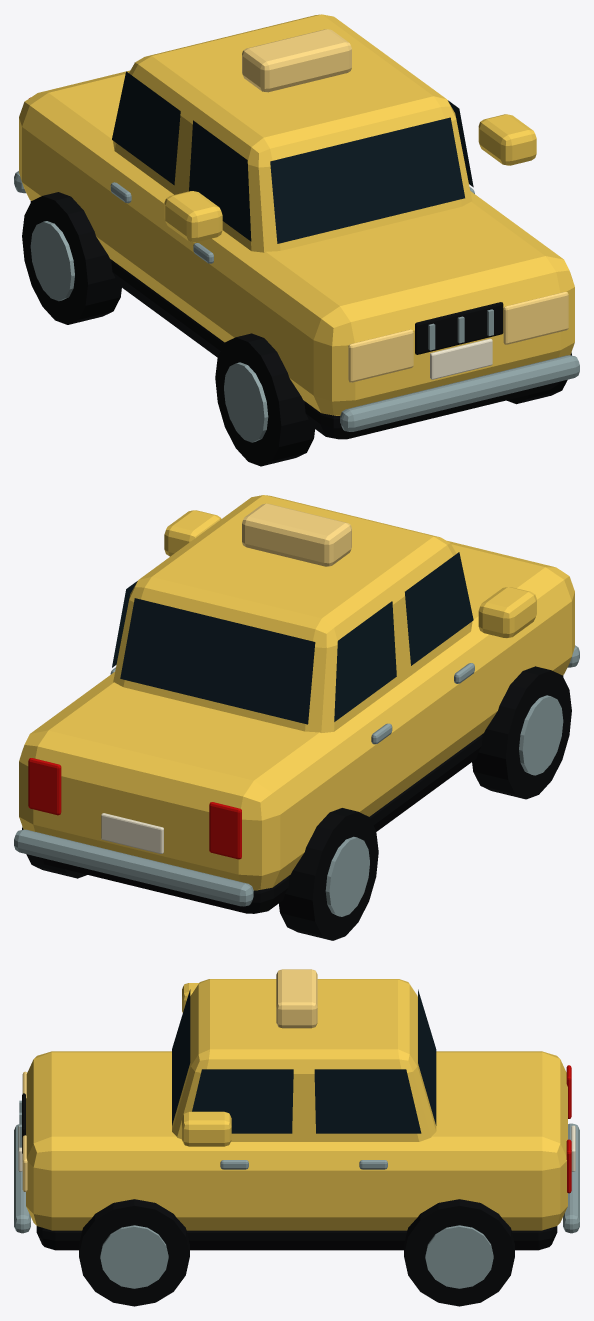
The model's file is HNP_Sedan_v003.fbx.
3 renders of one model, top to bottom at view 1: azimuth 30°, elevation 25°; view 2: azimuth 150°, elevation 25°; view 3: azimuth 270°, elevation 25°, orthographic. The views are drawn at different scales.
Parts seen in each view (by area): view 1: HNP_Sedan_v003_HNP3_Body, HNP_Sedan_v003_HNP3_Atlas, Wheel_-1_-1.14, Wheel_-1_1.14, WheelRim, WheelRim.001; view 2: HNP_Sedan_v003_HNP3_Body, HNP_Sedan_v003_HNP3_Atlas, Wheel_-1_-1.14, Wheel_-1_1.14, WheelRim.001, WheelRim; view 3: HNP_Sedan_v003_HNP3_Body, HNP_Sedan_v003_HNP3_Atlas, Wheel_1_-1.14, Wheel_1_1.14, WheelRim.002, WheelRim.003.
Boxes of the visible parts, left/top/right/bottom form: HNP_Sedan_v003_HNP3_Body: left=19, top=14, right=574, bottom=415; HNP_Sedan_v003_HNP3_Atlas: left=14, top=29, right=579, bottom=439; Wheel_-1_-1.14: left=22, top=192, right=121, bottom=324; Wheel_-1_1.14: left=215, top=333, right=314, bottom=466; WheelRim: left=30, top=221, right=74, bottom=301; WheelRim.001: left=224, top=362, right=268, bottom=442; HNP_Sedan_v003_HNP3_Body: left=19, top=495, right=574, bottom=890; HNP_Sedan_v003_HNP3_Atlas: left=14, top=503, right=579, bottom=913; Wheel_-1_-1.14: left=279, top=808, right=378, bottom=940; Wheel_-1_1.14: left=472, top=666, right=571, bottom=799; WheelRim.001: left=519, top=695, right=563, bottom=775; WheelRim: left=325, top=836, right=369, bottom=916; HNP_Sedan_v003_HNP3_Body: left=26, top=979, right=567, bottom=1230; HNP_Sedan_v003_HNP3_Atlas: left=14, top=969, right=579, bottom=1250; Wheel_1_-1.14: left=404, top=1199, right=514, bottom=1306; Wheel_1_1.14: left=79, top=1199, right=189, bottom=1306; WheelRim.002: left=425, top=1225, right=493, bottom=1288; WheelRim.003: left=100, top=1225, right=168, bottom=1288.
Bounding box in the file's own units: 238 × 202 × 397.
